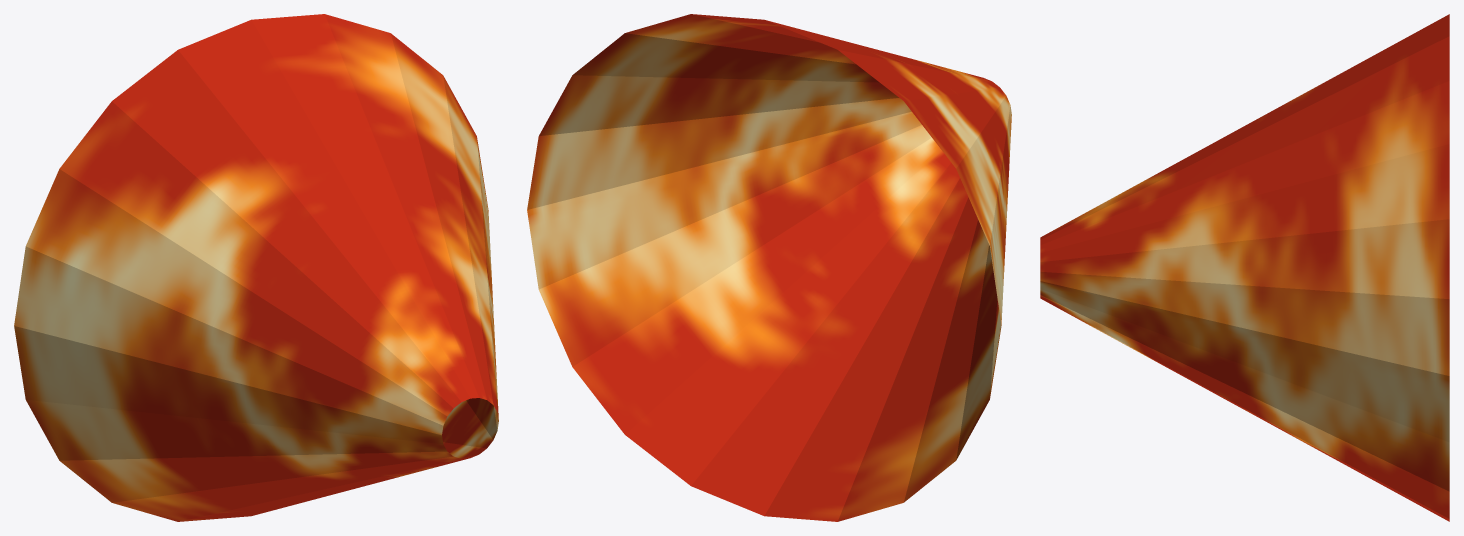
Rendered from vfx_cone.obj.
The picture shows the model from 3 angles, left to right: view 1: azimuth 30°, elevation 25°; view 2: azimuth 150°, elevation 25°; view 3: azimuth 270°, elevation 25°; orthographic projection. The views are drawn at different scales.
Bounding box in the file's own units: 2 × 2 × 1.6.
